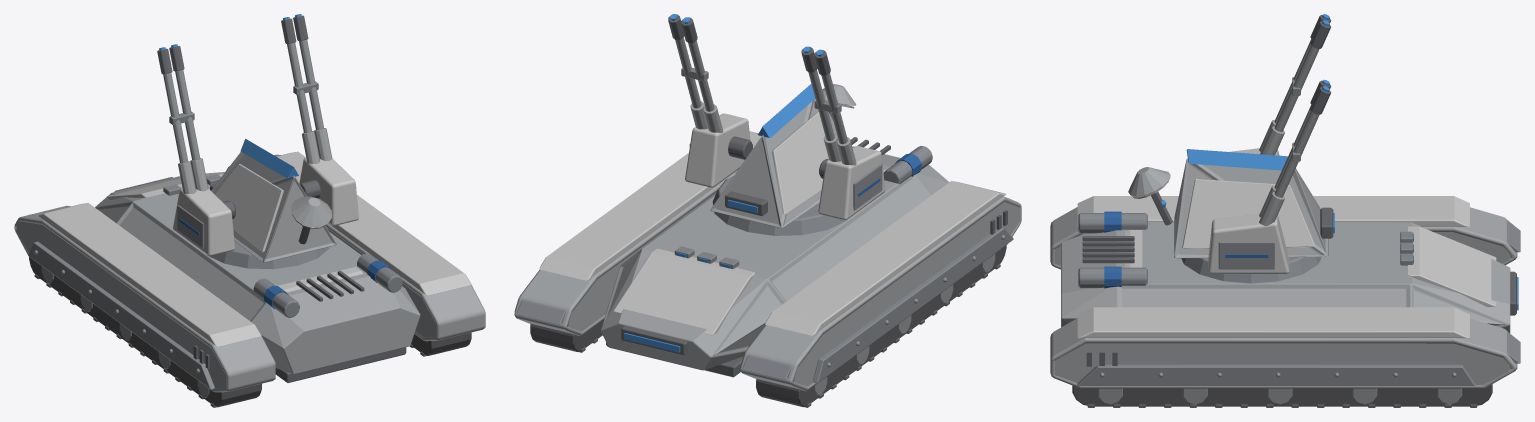
File: lattice_flak_vehicle.glb
The picture shows the model from 3 angles, left to right: view 1: azimuth 30°, elevation 25°; view 2: azimuth 150°, elevation 25°; view 3: azimuth 270°, elevation 25°; orthographic projection. The views are drawn at different scales.
Parts seen in each view (by area): view 1: Body, Turret; view 2: Body, Turret; view 3: Body, Turret.
Part boxes in pixels (x1,y1,x2,y2): Body: (14, 151, 485, 407); Turret: (157, 14, 358, 269); Body: (514, 131, 1021, 407); Turret: (668, 14, 885, 235); Body: (1050, 196, 1520, 407); Turret: (1128, 14, 1334, 283).
Bounding box in the file's own units: 1.59 × 1.48 × 2.18.
